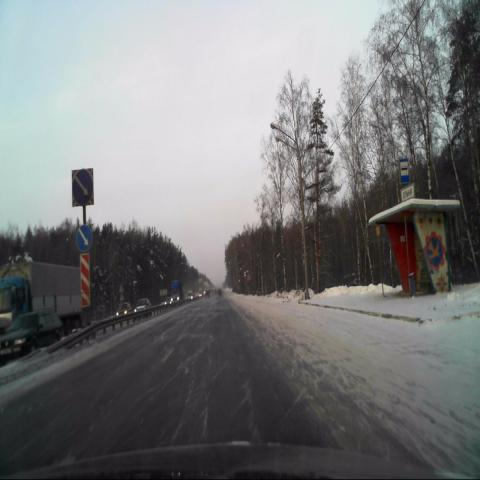5_16: (399, 158, 409, 183)
